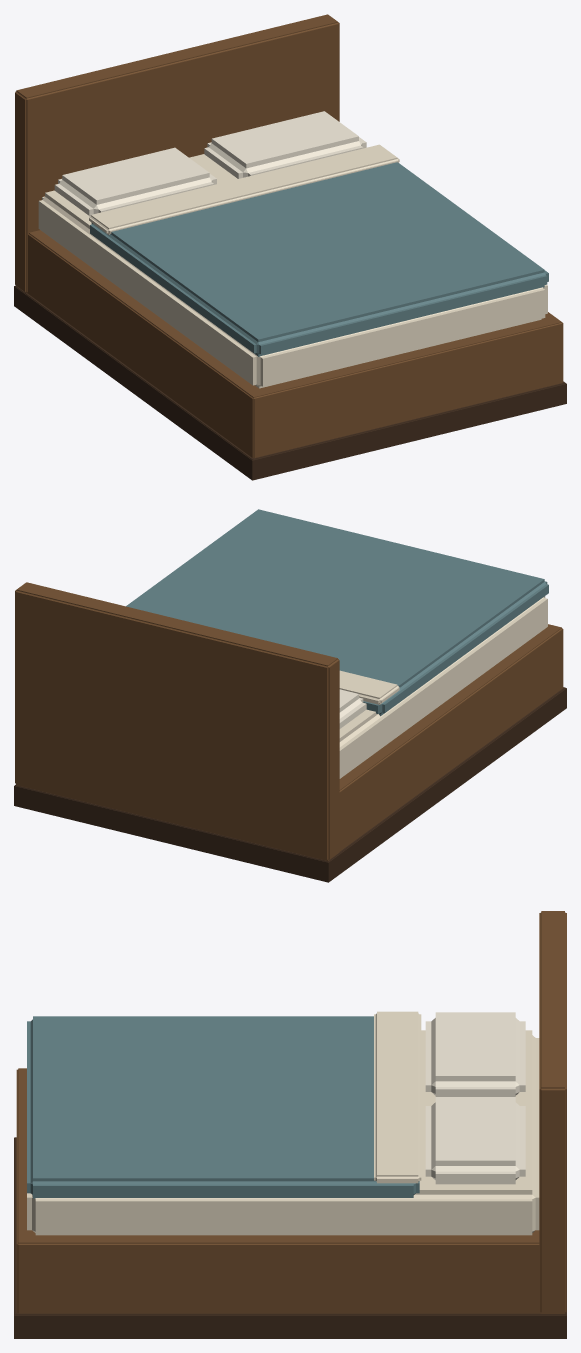
File: bed.glb
The picture shows the model from 3 angles, top to bottom: view 1: azimuth 30°, elevation 25°; view 2: azimuth 150°, elevation 25°; view 3: azimuth 270°, elevation 25°; orthographic projection. The views are drawn at different scales.
Visible parts, largest first — view 1: BlueDuvet, BedPlatform, BedHeadboard, BedMattress, BedFloorPlinth, DuvetFold, BedPillow.001, BedPillow; view 2: BedHeadboard, BlueDuvet, BedPlatform, BedFloorPlinth, BedMattress, DuvetFold, BedPillow; view 3: BlueDuvet, BedPlatform, BedMattress, BedFloorPlinth, BedHeadboard, BedPillow.001, BedPillow, DuvetFold.
Part boxes in pixels (<box>): BlueDuvet: <box>90,162,548,356</box>; BedPlatform: <box>27,230,563,457</box>; BedHeadboard: <box>15,14,339,293</box>; BedMattress: <box>38,154,547,388</box>; BedFloorPlinth: <box>14,285,566,480</box>; DuvetFold: <box>89,144,399,234</box>; BedPillow.001: <box>204,111,366,178</box>; BedPillow: <box>54,147,216,215</box>; BedHeadboard: <box>15,582,339,860</box>; BlueDuvet: <box>126,509,548,716</box>; BedPlatform: <box>339,624,563,851</box>; BedFloorPlinth: <box>14,687,566,882</box>; BedMattress: <box>339,596,547,778</box>; DuvetFold: <box>339,670,399,704</box>; BedPillow: <box>339,689,366,728</box>; BlueDuvet: <box>27,1016,419,1198</box>; BedPlatform: <box>16,1068,541,1313</box>; BedMattress: <box>27,1030,539,1235</box>; BedFloorPlinth: <box>14,1137,566,1338</box>; BedHeadboard: <box>539,911,566,1313</box>; BedPillow.001: <box>425,1097,525,1184</box>; BedPillow: <box>425,1012,525,1096</box>; DuvetFold: <box>374,1011,421,1183</box>.
Bounding box in the file's own units: 1.6 × 1.05 × 2.1.
